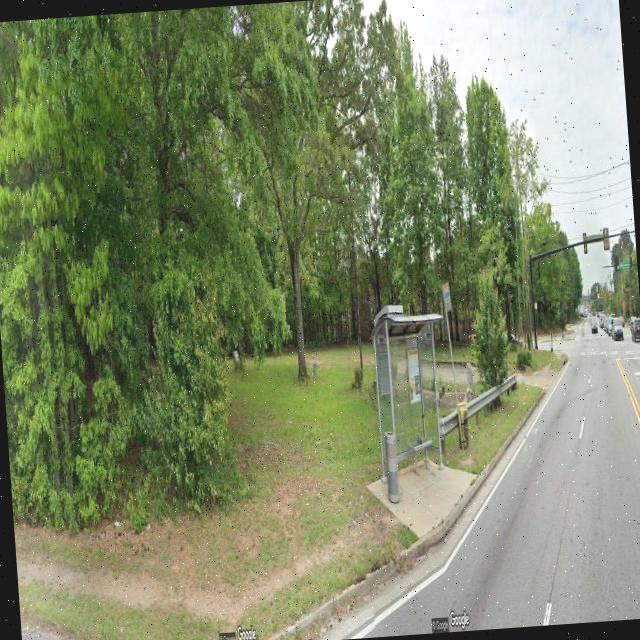seating: (409, 436, 435, 474)
shelter: (366, 304, 454, 492)
trash_can: (383, 428, 400, 504), (455, 401, 469, 451)
